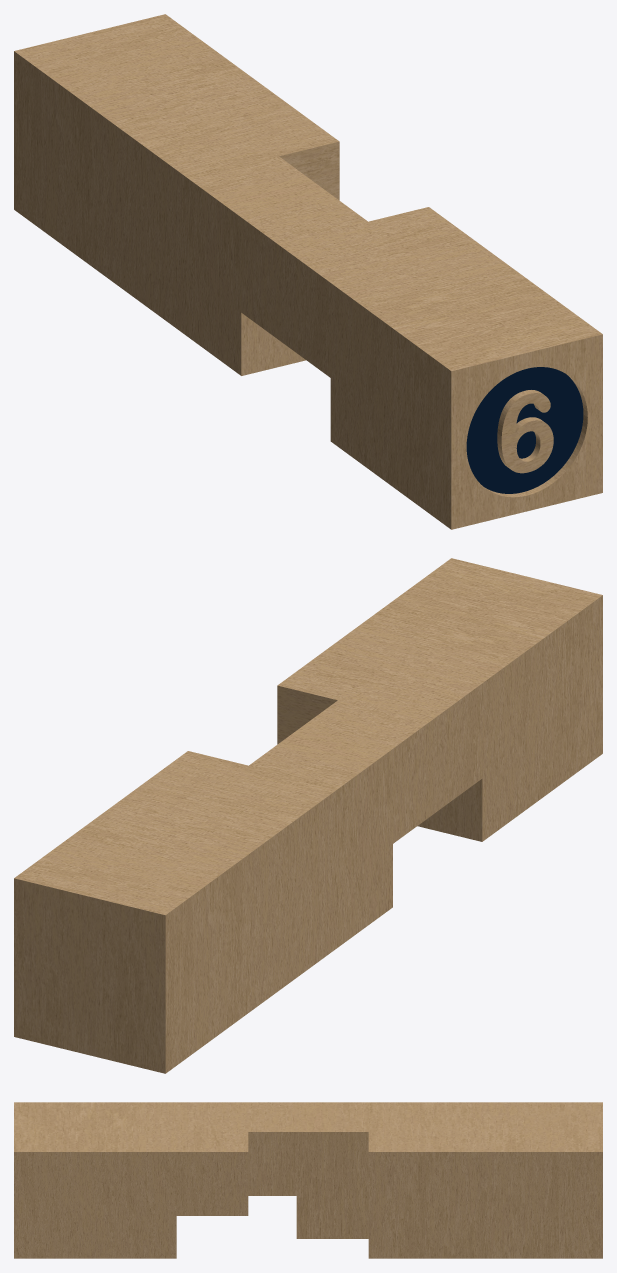
Rendered from Piece6.glb.
The picture shows the model from 3 angles, top to bottom: view 1: azimuth 30°, elevation 25°; view 2: azimuth 150°, elevation 25°; view 3: azimuth 270°, elevation 25°; orthographic projection. The views are drawn at different scales.
Parts seen in each view (by area): view 1: Piece6; view 2: Piece6; view 3: Piece6.
Boxes of the visible parts, x1,y1,x2,y2 form: Piece6: (14,14,602,529); Piece6: (14,558,602,1073); Piece6: (14,1102,602,1258).
Size of the model in its own units: 10 by 10 by 50.
Materials: 2 (1 with a texture image).
